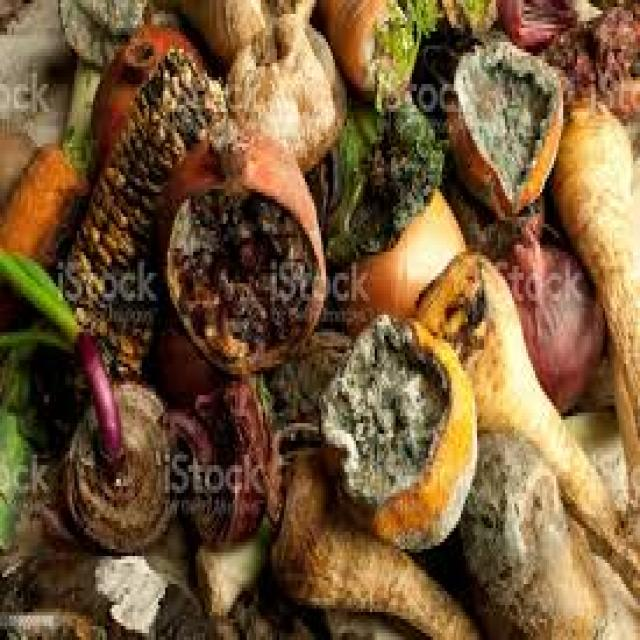organic waste: (0, 0, 638, 637), (414, 252, 638, 594), (37, 38, 228, 420), (265, 440, 477, 636), (158, 130, 324, 374), (552, 98, 638, 552), (314, 308, 475, 549), (459, 423, 605, 637), (0, 542, 323, 636), (0, 245, 121, 458), (300, 94, 440, 252), (445, 28, 563, 210), (498, 210, 605, 409), (60, 378, 177, 556), (223, 10, 344, 172), (340, 175, 465, 329), (165, 371, 272, 549), (86, 18, 205, 164), (0, 311, 65, 556), (0, 143, 84, 329), (538, 3, 638, 119), (142, 0, 314, 56), (314, 0, 412, 91), (0, 0, 65, 136), (193, 504, 270, 612), (558, 402, 628, 507), (370, 0, 437, 101), (268, 346, 335, 423), (63, 38, 100, 172), (55, 0, 139, 59), (63, 59, 100, 161), (319, 605, 435, 637), (493, 0, 574, 45), (0, 115, 35, 210), (452, 0, 496, 35)
